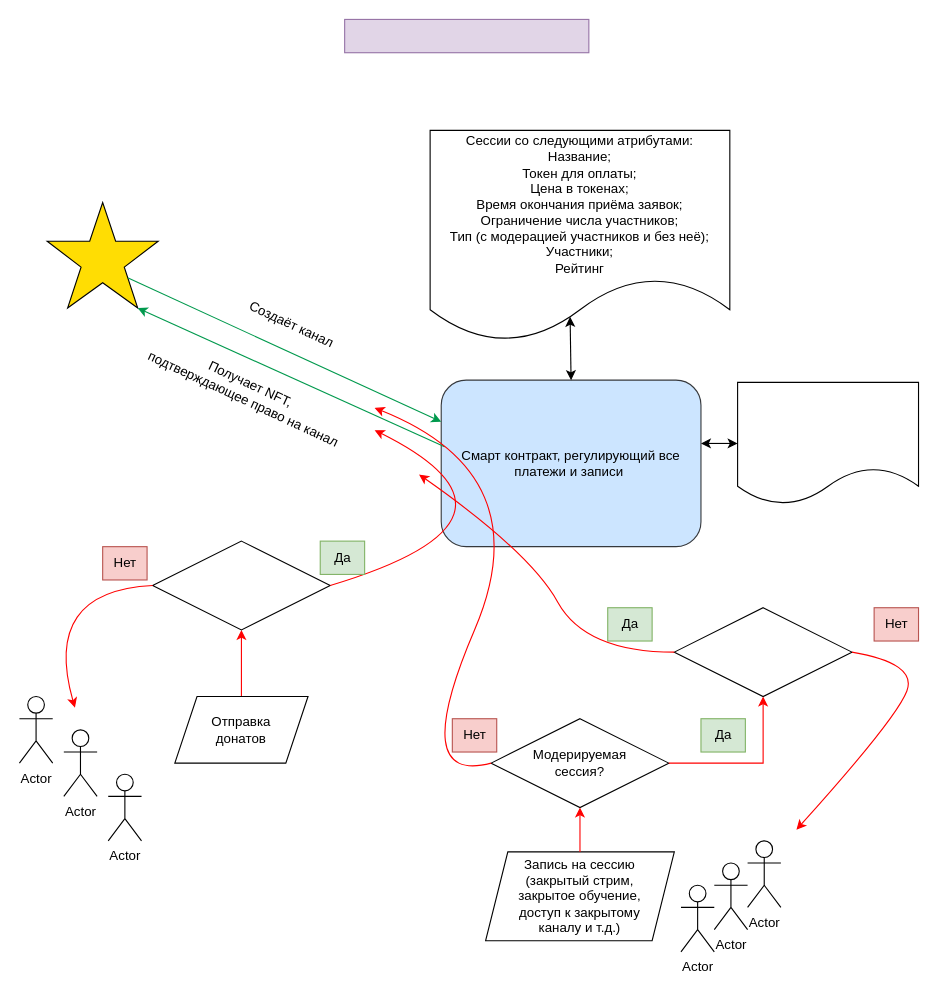
Some shapes in this 938 by 995 pixel diagram are drawn without their labels. The centre of each missing label's shape, as x and y in pixels:
Автор: point 102,254
Донат отправлен в нужном токене?: point 241,585
Свойства смарт контракта SocialFi: point 466,35
Список токенов для получения донатов: point 827,442
Участник подтвержден автором: point 762,652
